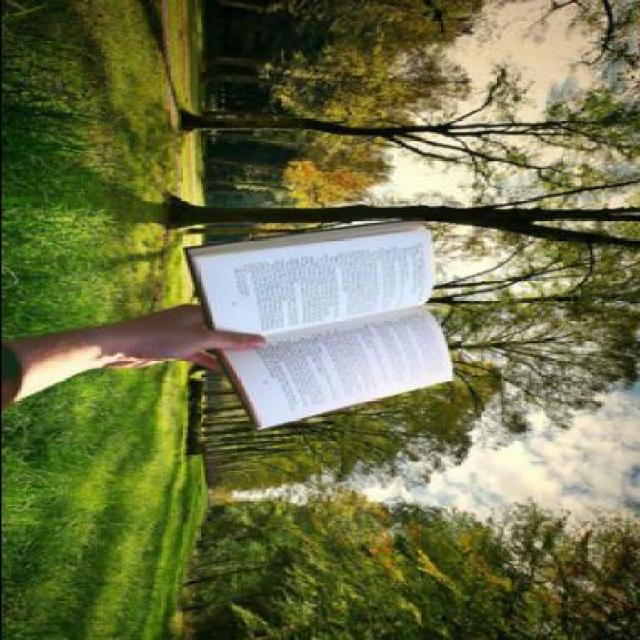book: (146, 171, 512, 458)
